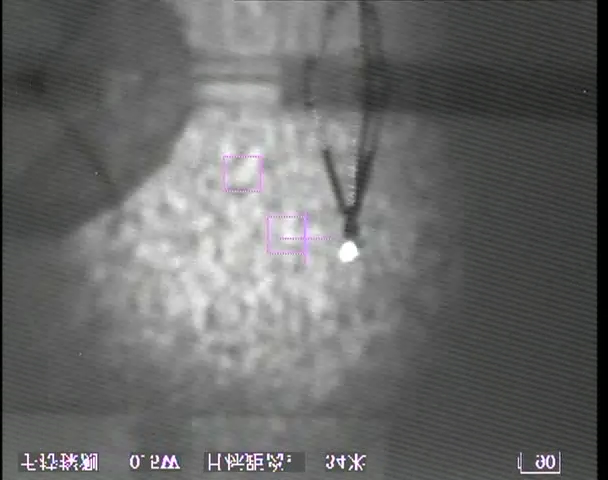my: (337, 238, 360, 265)
